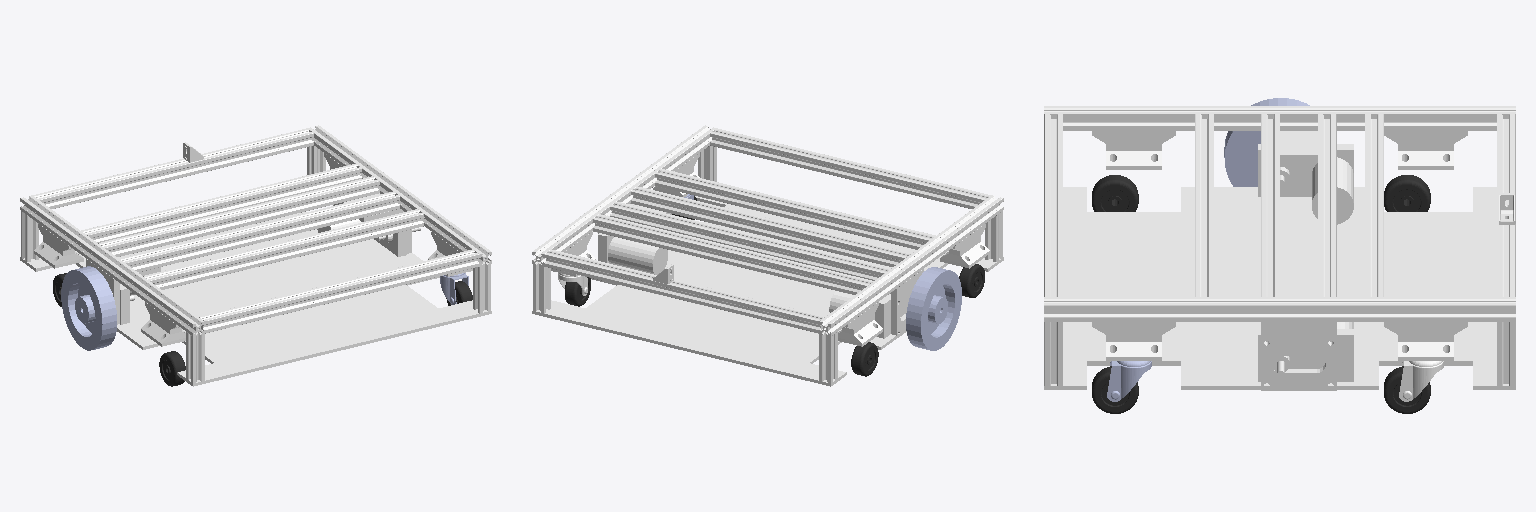
URDF robot description (DiffDrive):
<?xml version="1.0" encoding="utf-8"?>
<!-- This URDF was automatically created by SolidWorks to URDF Exporter! Originally created by [author] ([email redacted]) 
     Commit Version: 1.6.0-4-g7f85cfe  Build Version: 1.6.7995.38578
     For more information, please see http://wiki.ros.org/sw_urdf_exporter -->
<robot
  name="DiffDrive">
  <link
    name="base_link">
    <inertial>
      <origin
        xyz="0.410002757772882 0.223304099954227 0.383656044234519"
        rpy="0 0 0" />
      <mass
        value="3.99707593295727" />
      <inertia
        ixx="0.0338286081756613"
        ixy="2.69812394512863E-07"
        ixz="6.04312596661445E-10"
        iyy="0.0771999899846764"
        iyz="1.18867676606539E-08"
        izz="0.0441560434041183" />
    </inertial>
    <visual>
      <origin
        xyz="0 0 0"
        rpy="0 0 0" />
      <geometry>
        <mesh
          filename="package://DiffDrive/meshes/base_link.STL" />
      </geometry>
      <material
        name="">
        <color
          rgba="1 1 1 0.4" />
      </material>
    </visual>
    <collision>
      <origin
        xyz="0 0 0"
        rpy="0 0 0" />
      <geometry>
        <mesh
          filename="package://DiffDrive/meshes/base_link.STL" />
      </geometry>
    </collision>
  </link>
  <link
    name="mini wheel 01">
    <inertial>
      <origin
        xyz="0.00442419024671004 0.0407882700915736 5.11365806366015E-08"
        rpy="0 0 0" />
      <mass
        value="0.0159163609587196" />
      <inertia
        ixx="3.04804887255873E-06"
        ixy="3.8115153686273E-07"
        ixz="1.01515368617414E-10"
        iyy="2.55687129048666E-06"
        iyz="-5.57379950267749E-11"
        izz="2.82872222947099E-06" />
    </inertial>
    <visual>
      <origin
        xyz="0 0 0"
        rpy="0 0 0" />
      <geometry>
        <mesh
          filename="package://DiffDrive/meshes/mini wheel 01.STL" />
      </geometry>
      <material
        name="">
        <color
          rgba="1 1 1 1" />
      </material>
    </visual>
    <collision>
      <origin
        xyz="0 0 0"
        rpy="0 0 0" />
      <geometry>
        <mesh
          filename="package://DiffDrive/meshes/mini wheel 01.STL" />
      </geometry>
    </collision>
  </link>
  <joint
    name="mini wheel 01"
    type="continuous">
    <origin
      xyz="0.649922237049609 -0.238297834751047 0.157919253158435"
      rpy="1.5707963267949 0 -1.55646155726161" />
    <parent
      link="base_link" />
    <child
      link="mini wheel 01" />
    <axis
      xyz="0 1 0" />
  </joint>
  <link
    name="mini 01">
    <inertial>
      <origin
        xyz="0.0214652433425613 0.00180092427509927 0"
        rpy="0 0 0" />
      <mass
        value="0.0351037181525611" />
      <inertia
        ixx="6.69573691459496E-06"
        ixy="-4.2351647362715E-22"
        ixz="-1.4756902127946E-20"
        iyy="6.69573691459495E-06"
        iyz="-1.46444055646388E-20"
        izz="1.13592998252083E-05" />
    </inertial>
    <visual>
      <origin
        xyz="0 0 0"
        rpy="0 0 0" />
      <geometry>
        <mesh
          filename="package://DiffDrive/meshes/mini 01.STL" />
      </geometry>
      <material
        name="">
        <color
          rgba="0.250980392156863 0.250980392156863 0.250980392156863 1" />
      </material>
    </visual>
    <collision>
      <origin
        xyz="0 0 0"
        rpy="0 0 0" />
      <geometry>
        <mesh
          filename="package://DiffDrive/meshes/mini 01.STL" />
      </geometry>
    </collision>
  </link>
  <joint
    name="mini 01"
    type="continuous">
    <origin
      xyz="0 0 0"
      rpy="0 0 0.296802859073811" />
    <parent
      link="mini wheel 01" />
    <child
      link="mini 01" />
    <axis
      xyz="0.292464356117457 0.956276424681065 0" />
  </joint>
  <link
    name="mini wheel 02">
    <inertial>
      <origin
        xyz="-0.00376546230151442 0.0407882700171175 -0.00232266139324588"
        rpy="0 0 0" />
      <mass
        value="0.0159163608550056" />
      <inertia
        ixx="2.98751038693051E-06"
        ixy="-3.24432619179736E-07"
        ixz="9.80449894252071E-08"
        iyy="2.55687121621709E-06"
        iyz="-2.00049983095585E-07"
        izz="2.88926070956337E-06" />
    </inertial>
    <visual>
      <origin
        xyz="0 0 0"
        rpy="0 0 0" />
      <geometry>
        <mesh
          filename="package://DiffDrive/meshes/mini wheel 02.STL" />
      </geometry>
      <material
        name="">
        <color
          rgba="0.792156862745098 0.819607843137255 0.933333333333333 1" />
      </material>
    </visual>
    <collision>
      <origin
        xyz="0 0 0"
        rpy="0 0 0" />
      <geometry>
        <mesh
          filename="package://DiffDrive/meshes/mini wheel 02.STL" />
      </geometry>
    </collision>
  </link>
  <joint
    name="mini wheel 02"
    type="continuous">
    <origin
      xyz="0.649922237049609 -0.548297834751047 0.157919253158437"
      rpy="1.5707963267949 0 2.14107688053925" />
    <parent
      link="base_link" />
    <child
      link="mini wheel 02" />
    <axis
      xyz="0 1 0" />
  </joint>
  <link
    name="mini 02">
    <inertial>
      <origin
        xyz="0.0214652433425611 0.00180092427509934 1.11022302462516E-16"
        rpy="0 0 0" />
      <mass
        value="0.0351037181525611" />
      <inertia
        ixx="6.69573691459496E-06"
        ixy="3.17637355220363E-22"
        ixz="2.2446373102239E-20"
        iyy="6.69573691459495E-06"
        iyz="-2.1572870375383E-21"
        izz="1.13592998252083E-05" />
    </inertial>
    <visual>
      <origin
        xyz="0 0 0"
        rpy="0 0 0" />
      <geometry>
        <mesh
          filename="package://DiffDrive/meshes/mini 02.STL" />
      </geometry>
      <material
        name="">
        <color
          rgba="0.250980392156863 0.250980392156863 0.250980392156863 1" />
      </material>
    </visual>
    <collision>
      <origin
        xyz="0 0 0"
        rpy="0 0 0" />
      <geometry>
        <mesh
          filename="package://DiffDrive/meshes/mini 02.STL" />
      </geometry>
    </collision>
  </link>
  <joint
    name="mini 02"
    type="continuous">
    <origin
      xyz="0 0 0"
      rpy="2.96311522163044 0.525941308677483 2.79662415169577" />
    <parent
      link="mini wheel 02" />
    <child
      link="mini 02" />
    <axis
      xyz="0.292464356117457 0.956276424681065 0" />
  </joint>
  <link
    name="mini wheel 03">
    <inertial>
      <origin
        xyz="-0.00376546080228934 0.0407882711178764 -0.00232265994952238"
        rpy="0 0 0" />
      <mass
        value="0.0159163611002415" />
      <inertia
        ixx="2.98751079488814E-06"
        ixy="-3.24432397210381E-07"
        ixz="9.8043942933475E-08"
        iyy="2.55687160406272E-06"
        iyz="-2.0005032862318E-07"
        izz="2.88926023574823E-06" />
    </inertial>
    <visual>
      <origin
        xyz="0 0 0"
        rpy="0 0 0" />
      <geometry>
        <mesh
          filename="package://DiffDrive/meshes/mini wheel 03.STL" />
      </geometry>
      <material
        name="">
        <color
          rgba="0.792156862745098 0.819607843137255 0.933333333333333 1" />
      </material>
    </visual>
    <collision>
      <origin
        xyz="0 0 0"
        rpy="0 0 0" />
      <geometry>
        <mesh
          filename="package://DiffDrive/meshes/mini wheel 03.STL" />
      </geometry>
    </collision>
  </link>
  <joint
    name="mini wheel 03"
    type="continuous">
    <origin
      xyz="0.169922237049587 -0.548297834751047 0.157919253158437"
      rpy="1.5707963267949 0 2.11677958982226" />
    <parent
      link="base_link" />
    <child
      link="mini wheel 03" />
    <axis
      xyz="0 1 0" />
  </joint>
  <link
    name="mini 03">
    <inertial>
      <origin
        xyz="0.0214652433425609 0.00180092427509926 1.11022302462516E-16"
        rpy="0 0 0" />
      <mass
        value="0.0351037181525611" />
      <inertia
        ixx="6.69573691459494E-06"
        ixy="3.17637355220363E-22"
        ixz="8.37106779903664E-22"
        iyy="6.69573691459494E-06"
        iyz="-3.25743725223382E-21"
        izz="1.13592998252082E-05" />
    </inertial>
    <visual>
      <origin
        xyz="0 0 0"
        rpy="0 0 0" />
      <geometry>
        <mesh
          filename="package://DiffDrive/meshes/mini 03.STL" />
      </geometry>
      <material
        name="">
        <color
          rgba="0.250980392156863 0.250980392156863 0.250980392156863 1" />
      </material>
    </visual>
    <collision>
      <origin
        xyz="0 0 0"
        rpy="0 0 0" />
      <geometry>
        <mesh
          filename="package://DiffDrive/meshes/mini 03.STL" />
      </geometry>
    </collision>
  </link>
  <joint
    name="mini 03"
    type="continuous">
    <origin
      xyz="0 0 0"
      rpy="2.96311522163044 0.525941308677473 2.79662415169576" />
    <parent
      link="mini wheel 03" />
    <child
      link="mini 03" />
    <axis
      xyz="0.292464356117462 0.956276424681064 0" />
  </joint>
  <link
    name="mini wheel 04">
    <inertial>
      <origin
        xyz="0.0404249060706092 -0.00700596278140952 -5.14370523119201E-08"
        rpy="0 0 0" />
      <mass
        value="0.0159163608704481" />
      <inertia
        ixx="2.79652754247248E-06"
        ixy="4.53381671510528E-07"
        ixz="2.53127233188317E-11"
        iyy="2.80839192000701E-06"
        iyz="-1.12354417786115E-10"
        izz="2.82872309017874E-06" />
    </inertial>
    <visual>
      <origin
        xyz="0 0 0"
        rpy="0 0 0" />
      <geometry>
        <mesh
          filename="package://DiffDrive/meshes/mini wheel 04.STL" />
      </geometry>
      <material
        name="">
        <color
          rgba="0.792156862745098 0.819607843137255 0.929411764705882 1" />
      </material>
    </visual>
    <collision>
      <origin
        xyz="0 0 0"
        rpy="0 0 0" />
      <geometry>
        <mesh
          filename="package://DiffDrive/meshes/mini wheel 04.STL" />
      </geometry>
    </collision>
  </link>
  <joint
    name="mini wheel 04"
    type="continuous">
    <origin
      xyz="0.169922237049587 -0.238297834751047 0.157919253158437"
      rpy="-1.5707963267949 -1.29114800642175 -1.58217190075403" />
    <parent
      link="base_link" />
    <child
      link="mini wheel 04" />
    <axis
      xyz="0.961152567529158 -0.276017647863517 0" />
  </joint>
  <link
    name="mini 04">
    <inertial>
      <origin
        xyz="0.021465243342561 0.00180092427509938 2.77555756156289E-17"
        rpy="0 0 0" />
      <mass
        value="0.035103718152561" />
      <inertia
        ixx="6.69573691459492E-06"
        ixy="-6.35274710440725E-22"
        ixz="2.06464280893236E-21"
        iyy="6.69573691459492E-06"
        iyz="7.0475788189518E-22"
        izz="1.13592998252082E-05" />
    </inertial>
    <visual>
      <origin
        xyz="0 0 0"
        rpy="0 0 0" />
      <geometry>
        <mesh
          filename="package://DiffDrive/meshes/mini 04.STL" />
      </geometry>
      <material
        name="">
        <color
          rgba="0.250980392156863 0.250980392156863 0.250980392156863 1" />
      </material>
    </visual>
    <collision>
      <origin
        xyz="0 0 0"
        rpy="0 0 0" />
      <geometry>
        <mesh
          filename="package://DiffDrive/meshes/mini 04.STL" />
      </geometry>
    </collision>
  </link>
  <joint
    name="mini 04"
    type="continuous">
    <origin
      xyz="0 0 0"
      rpy="3.14159265358979 0 0.994345147347936" />
    <parent
      link="mini wheel 04" />
    <child
      link="mini 04" />
    <axis
      xyz="0.292464356117458 0.956276424681065 0" />
  </joint>
  <link
    name="Wheel 01">
    <inertial>
      <origin
        xyz="5.55111512312578E-17 0.0257257525083612 5.55111512312578E-17"
        rpy="0 0 0" />
      <mass
        value="0.240470068076377" />
      <inertia
        ixx="0.000245137261047143"
        ixy="4.26861241081053E-21"
        ixz="-6.7762635780344E-21"
        iyy="0.000452624182450972"
        iyz="1.59972478988236E-20"
        izz="0.000245137261047143" />
    </inertial>
    <visual>
      <origin
        xyz="0 0 0"
        rpy="0 0 0" />
      <geometry>
        <mesh
          filename="package://DiffDrive/meshes/Wheel 01.STL" />
      </geometry>
      <material
        name="">
        <color
          rgba="0.792156862745098 0.819607843137255 0.933333333333333 1" />
      </material>
    </visual>
    <collision>
      <origin
        xyz="0 0 0"
        rpy="0 0 0" />
      <geometry>
        <mesh
          filename="package://DiffDrive/meshes/Wheel 01.STL" />
      </geometry>
    </collision>
  </link>
  <joint
    name="Wheel 01"
    type="continuous">
    <origin
      xyz="0.659922237049609 -0.392297834751047 0.200418917757862"
      rpy="3.14159265358979 -0.53712555837446 1.5707963267949" />
    <parent
      link="base_link" />
    <child
      link="Wheel 01" />
    <axis
      xyz="0 1 0" />
  </joint>
  <link
    name="Wheel 02">
    <inertial>
      <origin
        xyz="0 -0.0152742474916388 2.77555756156289E-17"
        rpy="0 0 0" />
      <mass
        value="0.240470068076377" />
      <inertia
        ixx="0.000245137261047143"
        ixy="5.12745004835681E-20"
        ixz="0"
        iyy="0.000452624182450971"
        iyz="-5.57841424911612E-20"
        izz="0.000245137261047143" />
    </inertial>
    <visual>
      <origin
        xyz="0 0 0"
        rpy="0 0 0" />
      <geometry>
        <mesh
          filename="package://DiffDrive/meshes/Wheel 02.STL" />
      </geometry>
      <material
        name="">
        <color
          rgba="0.792156862745098 0.819607843137255 0.933333333333333 1" />
      </material>
    </visual>
    <collision>
      <origin
        xyz="0 0 0"
        rpy="0 0 0" />
      <geometry>
        <mesh
          filename="package://DiffDrive/meshes/Wheel 02.STL" />
      </geometry>
    </collision>
  </link>
  <joint
    name="Wheel 02"
    type="continuous">
    <origin
      xyz="0.118922237049587 -0.39229783475107 0.200418917757862"
      rpy="0 0.774914173734372 1.5707963267949" />
    <parent
      link="base_link" />
    <child
      link="Wheel 02" />
    <axis
      xyz="0 1 0" />
  </joint>
</robot>

--- Render facts (derived) ---
The picture shows the robot from 3 angles, left to right: view 1: azimuth 30°, elevation 25°; view 2: azimuth 150°, elevation 25°; view 3: azimuth 270°, elevation 25°; orthographic projection.
Model DiffDrive with 11 links and 10 joints (10 continuous), rooted at base_link, posed every joint at zero.
Links seen in each view (by area): view 1: base_link, Wheel 02, mini 03; view 2: base_link, Wheel 02, mini 04, mini 03; view 3: base_link, Wheel 02, mini 04, mini 03, mini wheel 02, mini wheel 01, mini 01, mini 02.
Link boxes in pixels (<box>): base_link: <box>20,125,491,386</box>; Wheel 02: <box>61,266,116,350</box>; mini 03: <box>159,351,185,386</box>; base_link: <box>532,125,1003,386</box>; Wheel 02: <box>906,267,961,350</box>; mini 04: <box>851,342,878,376</box>; mini 03: <box>959,264,984,297</box>; base_link: <box>1044,106,1515,390</box>; Wheel 02: <box>1224,98,1309,186</box>; mini 04: <box>1384,175,1430,211</box>; mini 03: <box>1092,175,1138,211</box>; mini wheel 02: <box>1107,361,1151,401</box>; mini wheel 01: <box>1399,361,1443,401</box>; mini 01: <box>1384,366,1430,413</box>; mini 02: <box>1092,366,1138,413</box>.
Size in the robot's own frame: 0.5659 by 0.5 by 0.1544 metres.
Meshes: 11 distinct files referenced, 8 mesh visuals loaded (8 binary STL); not drawn: 3 (reference not matched to a file when rendering).